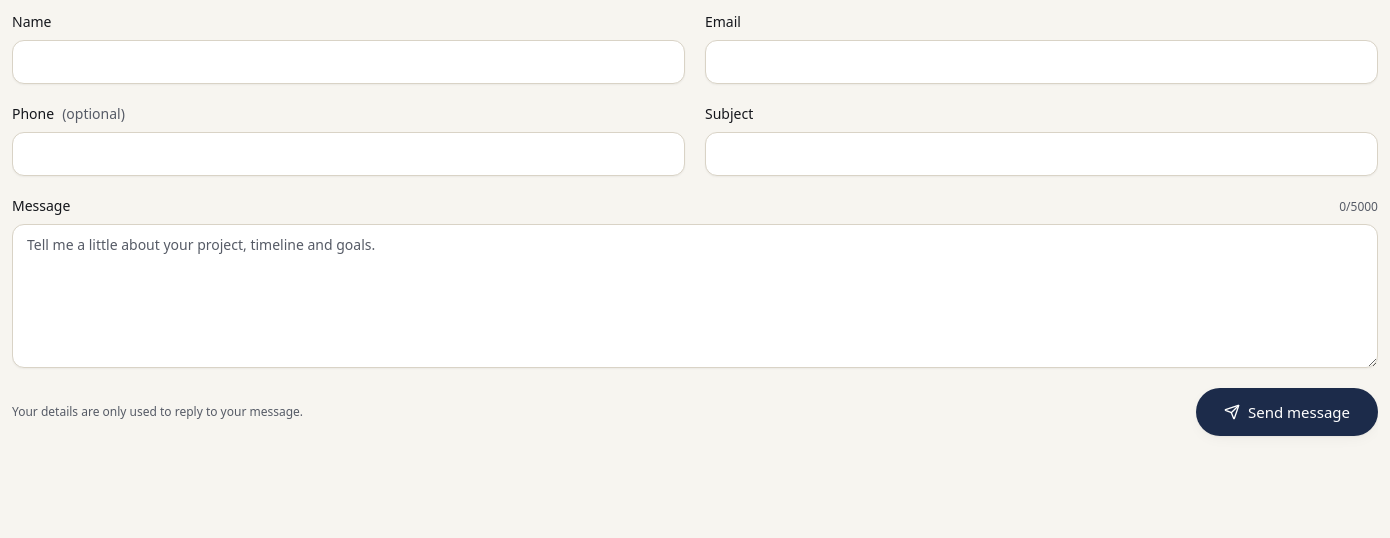
ContactForm › shows required field errors and does not submit an empty form
Click the button "Send message".
click(1287, 412)  # box left=1196, top=388, right=1378, bottom=436
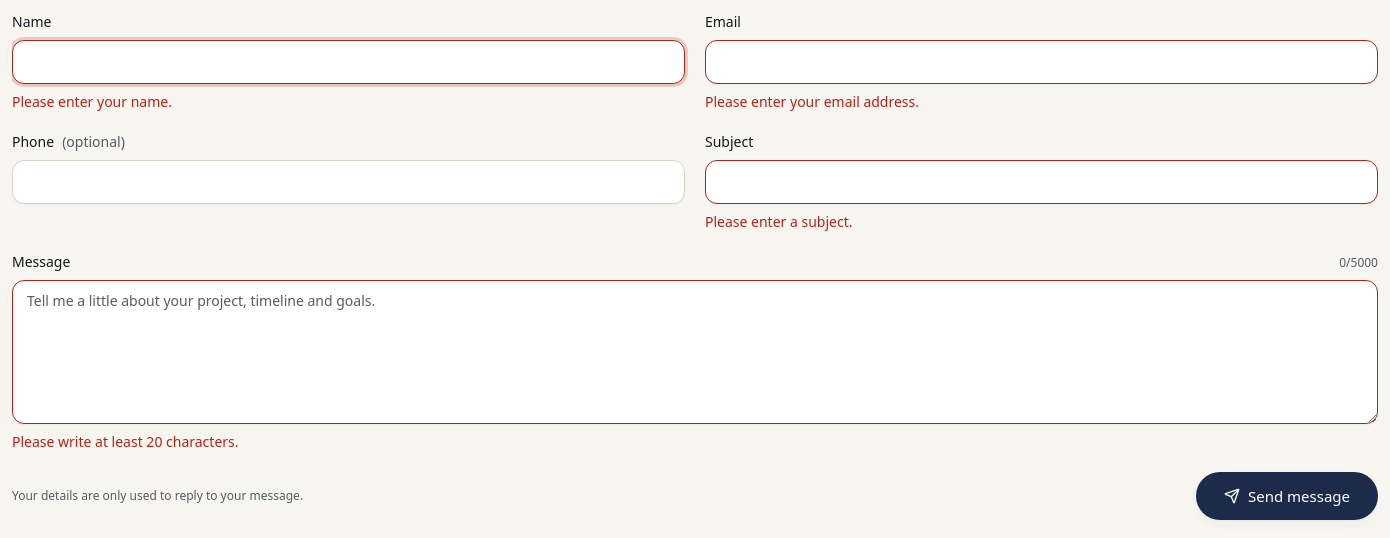
Result: the text "Please enter your name." is shown at left=12, top=92, right=172, bottom=111
Result: the text "Please enter your email address." is shown at left=705, top=92, right=919, bottom=111
Result: the text "Please enter a subject." is shown at left=705, top=212, right=852, bottom=231
